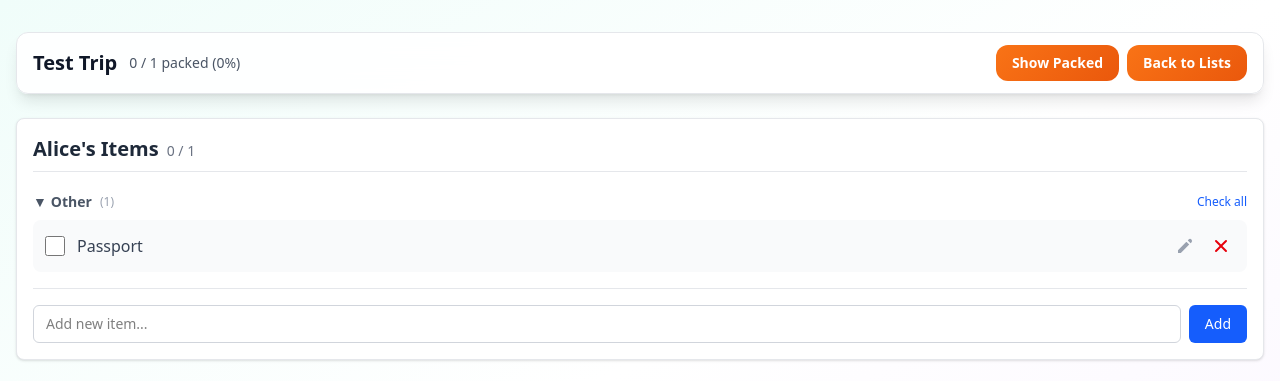
Scenario: ViewPackingList inline item editing › pressing Escape cancels edit and restores original name
Expected: the text "Passport" is shown, [77, 234, 143, 258]
Click the button titled "Edit item".
click(1185, 246)  # box [1171, 232, 1199, 260]
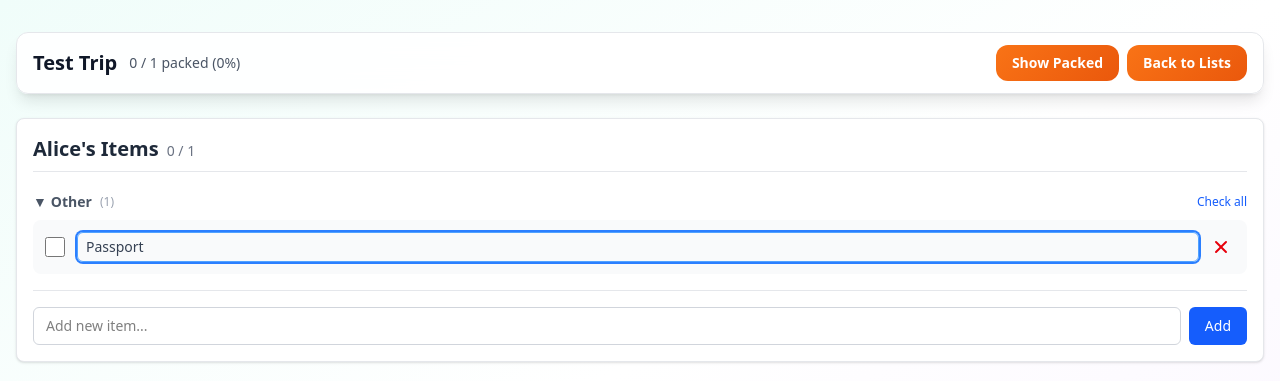
Replace the text in the field named "edit item name" with "Bogus" at {"x": 638, "y": 247}, box [77, 232, 1199, 262]
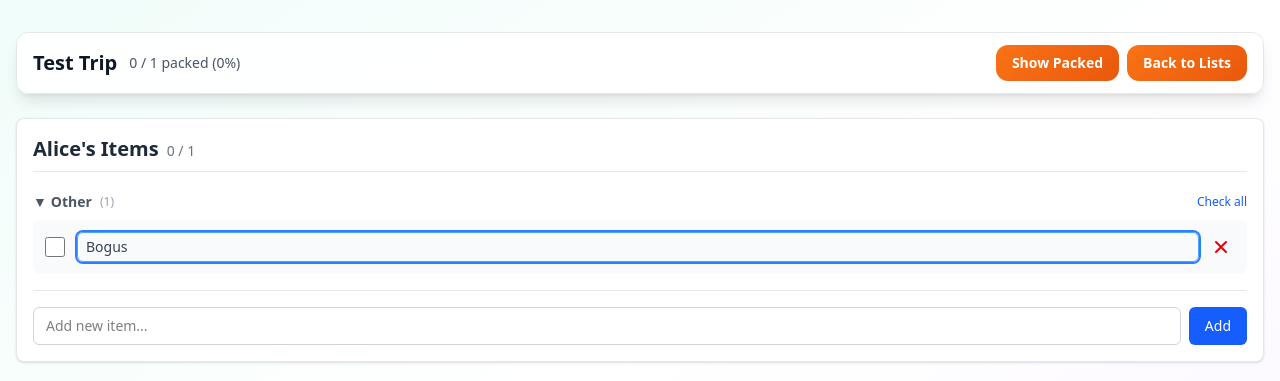
Press Escape in the field named "edit item name", box [77, 232, 1199, 262]
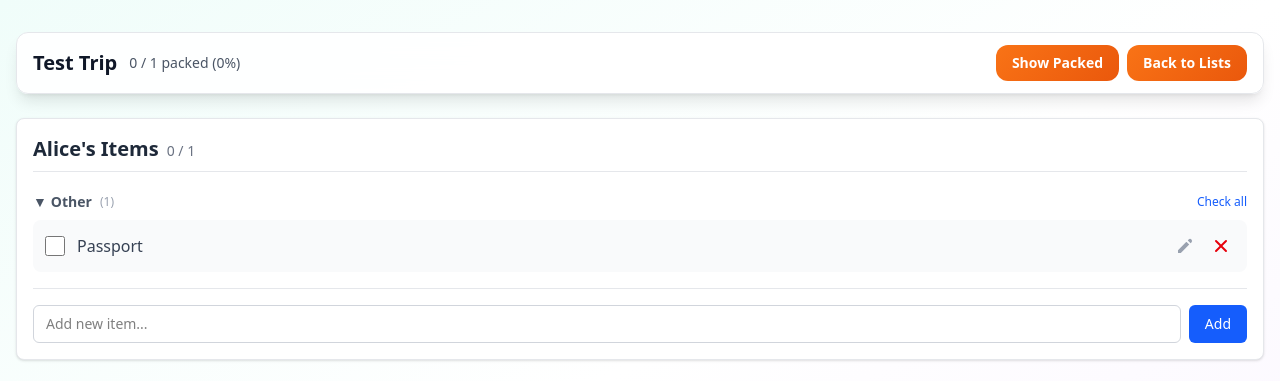
Now the text "Passport" is shown, box [77, 234, 143, 258]
